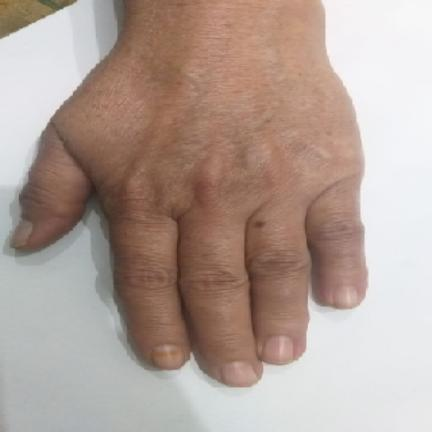Nail: (262, 335, 294, 364), (222, 361, 258, 386), (152, 344, 184, 370), (333, 284, 360, 309), (10, 219, 33, 248)
